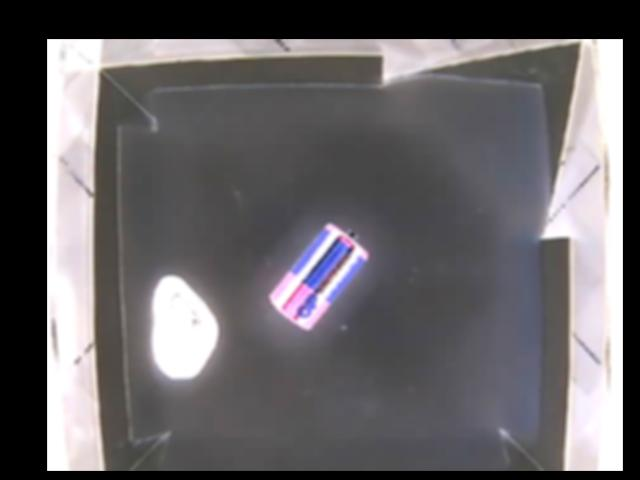Battery: (268, 219, 368, 331)
Pebble: (150, 275, 218, 375)
